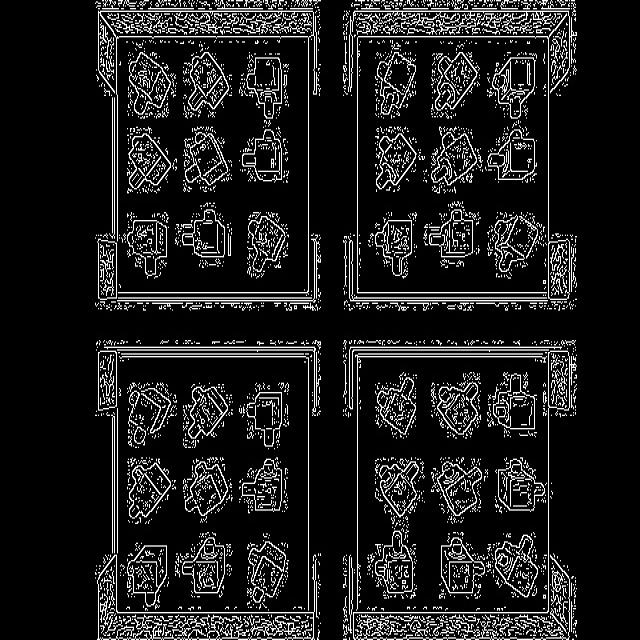Regulator: (488, 212, 545, 278), (431, 457, 488, 523), (175, 203, 231, 268), (175, 532, 231, 597), (424, 202, 480, 267), (128, 45, 176, 117), (430, 127, 482, 193), (432, 45, 479, 117), (184, 47, 231, 118), (182, 383, 232, 448), (239, 384, 289, 448), (368, 530, 415, 598), (128, 127, 176, 193), (184, 457, 232, 522), (431, 373, 479, 438), (369, 212, 416, 278), (184, 127, 231, 192), (129, 383, 176, 448), (489, 372, 536, 437), (248, 533, 288, 608), (129, 458, 175, 523), (376, 43, 416, 117), (441, 532, 485, 598), (496, 457, 548, 512), (375, 458, 422, 518), (376, 127, 420, 190), (491, 57, 536, 118), (239, 457, 288, 513), (495, 535, 539, 597), (248, 212, 288, 278), (376, 372, 416, 438), (128, 543, 168, 608), (488, 128, 536, 182), (241, 127, 288, 182), (128, 220, 168, 277), (246, 57, 282, 118)
